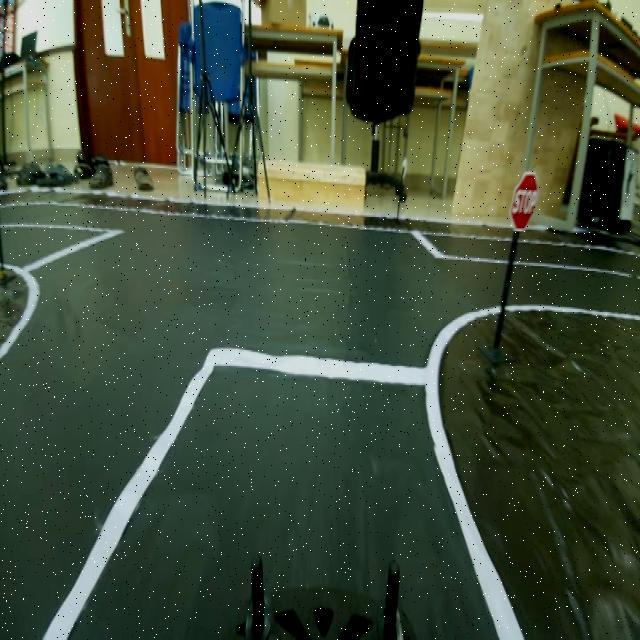stop: (508, 158, 540, 238)
